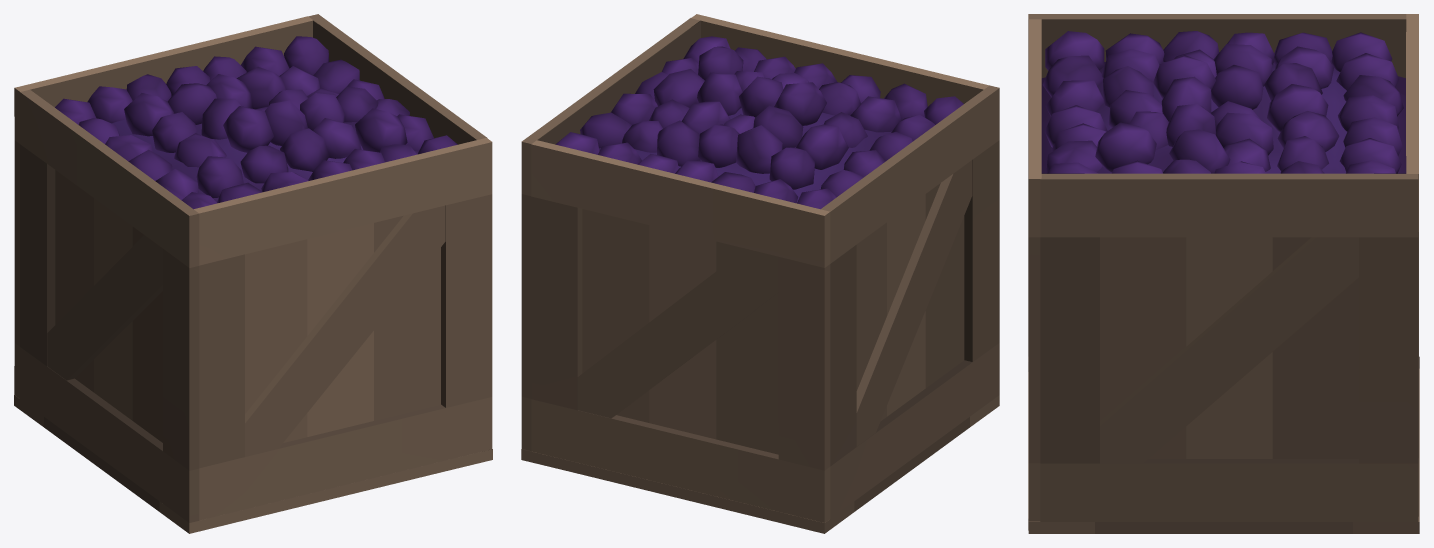
The model's file is consumables-vegetables-producecrate_v2.glb.
3 renders of one model, left to right at view 1: azimuth 30°, elevation 25°; view 2: azimuth 150°, elevation 25°; view 3: azimuth 270°, elevation 25°, orthographic. The views are drawn at different scales.
Visible parts, largest first — view 1: ProduceCrate_v2_base2, ProduceCrate_v2_color; view 2: ProduceCrate_v2_base2, ProduceCrate_v2_color; view 3: ProduceCrate_v2_base2, ProduceCrate_v2_color.
Part boxes in pixels (left/top/right/bottom): ProduceCrate_v2_base2: left=14, top=14, right=492, bottom=533; ProduceCrate_v2_color: left=55, top=36, right=457, bottom=209; ProduceCrate_v2_base2: left=521, top=14, right=999, bottom=533; ProduceCrate_v2_color: left=555, top=36, right=963, bottom=209; ProduceCrate_v2_base2: left=1028, top=14, right=1419, bottom=533; ProduceCrate_v2_color: left=1041, top=31, right=1406, bottom=173.
Bounding box in the file's own units: 0.491 × 0.5284 × 0.4908.
